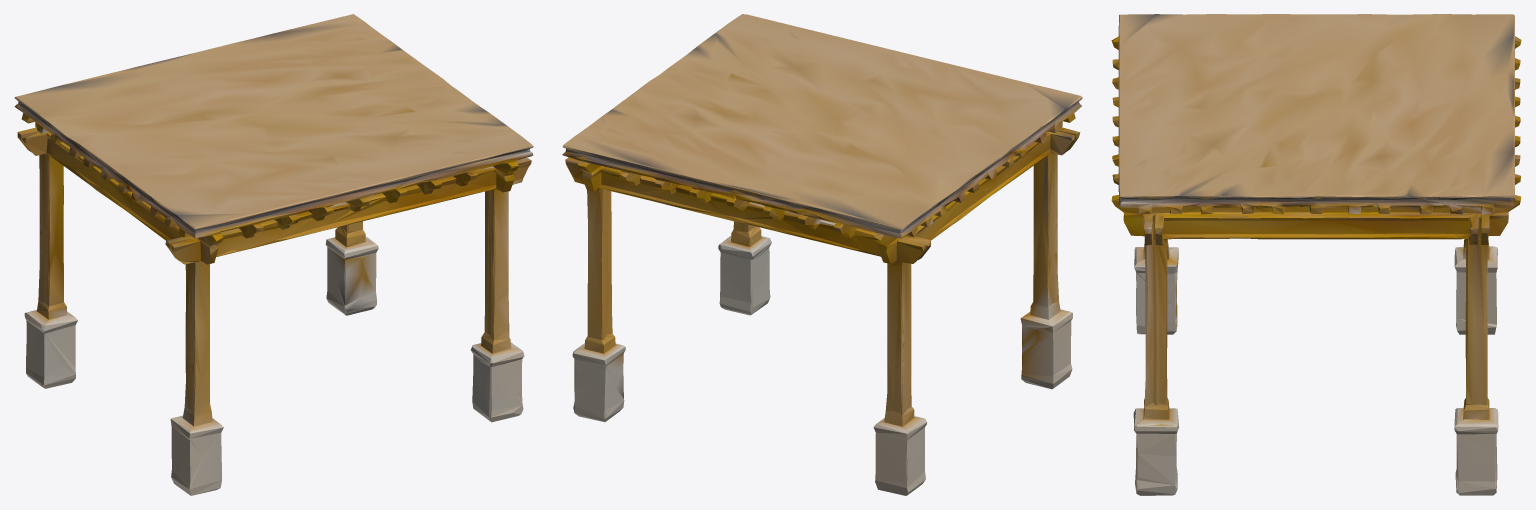
The model's file is swing-pergola.glb.
The picture shows the model from 3 angles, left to right: view 1: azimuth 30°, elevation 25°; view 2: azimuth 150°, elevation 25°; view 3: azimuth 270°, elevation 25°; orthographic projection. The views are drawn at different scales.
Visible parts, largest first — view 1: geometry_0; view 2: geometry_0; view 3: geometry_0.
Boxes of the visible parts, x1,y1,x2,y2 form: geometry_0: (14, 14, 533, 495); geometry_0: (562, 14, 1082, 495); geometry_0: (1111, 14, 1521, 495).
Bounding box in the file's own units: 2 × 1.47 × 1.8.
